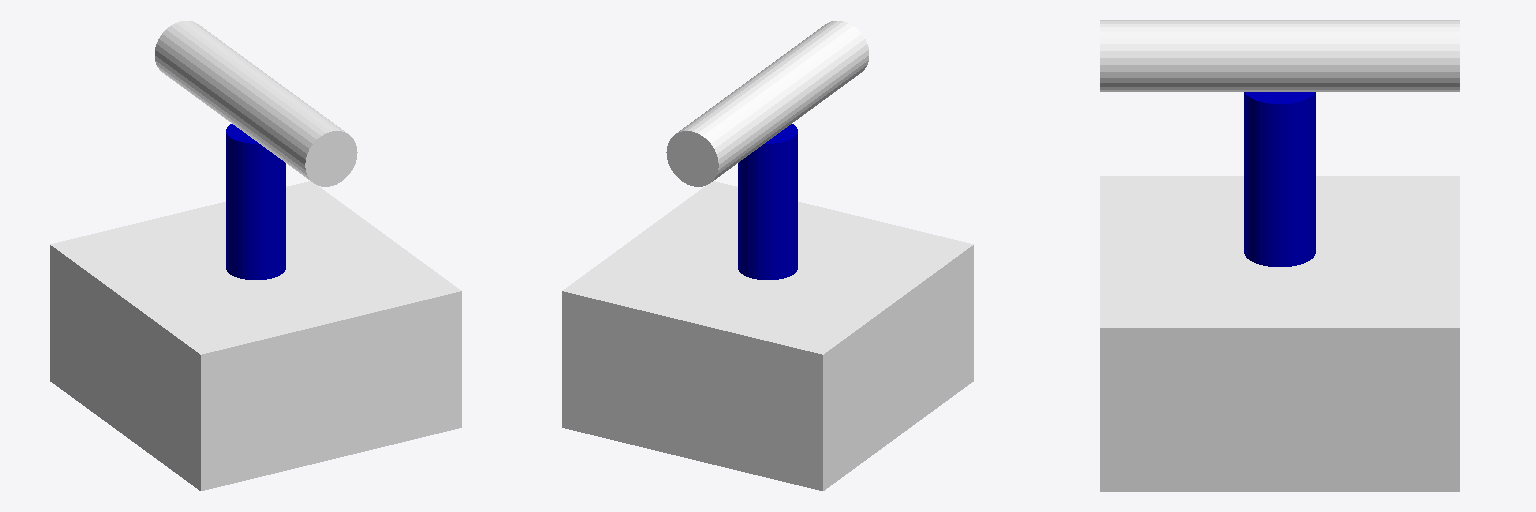
The robot description file, URDF, robot "simple_robot":
<?xml version="1.0"?>
<robot name="simple_robot">
	
	<material name="blue">
    <color rgba="0 0 0.8 1"/>
  </material>

  <material name="white">
    <color rgba="1 1 1 1"/>
  </material>
	
  <link name="base_link">
    <visual>
      <geometry>
		<box size="0.1 0.1 0.05"/>
      </geometry>
      <material name="white"/>
      <origin xyz="0 0 0.025"/>
    </visual>
  </link>

  <link name="plato_giro">
    <visual>
      <geometry>
        <cylinder length="0.05" radius="0.01"/>
      </geometry>
      <material name="blue"/>
      <origin rpy="0 0 0" xyz="0 0 0"/>
    </visual>
  </link>

  <joint name="J1" type="continuous">
    <parent link="base_link"/>
    <child link="plato_giro"/>
    <origin xyz="0 0 0.075"/>
     <axis xyz="0 0 0.1" />
  </joint>
  
 
  <link name="link2_1">
	  <visual>
		  <geometry>
			  <cylinder length="0.1" radius="0.01"/>
		  </geometry>
		  <material name="white"/>
		  <origin rpy="0 0 0" xyz="0 0 0"/>
	  </visual>
  </link>
  
  <joint name="J2" type="continuous">
	<parent link="plato_giro"/>
    <child link="link2_1"/>
    <origin rpy="1.570796 0 0" xyz="0 0 0.035"/>
    <axis xyz="0 0 1"/>
  </joint>


</robot>

--- Render facts (derived) ---
Views: 3 orthographic renders of the robot side by side, from view 1: azimuth 30°, elevation 25°; view 2: azimuth 150°, elevation 25°; view 3: azimuth 270°, elevation 25°.
Model simple_robot with 3 links and 2 joints (2 continuous), rooted at base_link, posed all joints at 0.
Links seen in each view (by area): view 1: base_link, link2_1, plato_giro; view 2: base_link, link2_1, plato_giro; view 3: base_link, link2_1, plato_giro.
Boxes of the visible links, left/top/right/bottom form: base_link: left=50, top=181, right=461, bottom=490; link2_1: left=155, top=21, right=357, bottom=186; plato_giro: left=226, top=124, right=285, bottom=279; base_link: left=562, top=181, right=973, bottom=490; link2_1: left=666, top=21, right=868, bottom=186; plato_giro: left=738, top=124, right=797, bottom=279; base_link: left=1100, top=176, right=1459, bottom=491; link2_1: left=1100, top=20, right=1459, bottom=91; plato_giro: left=1244, top=92, right=1315, bottom=266.
Size in the robot's own frame: 0.1 by 0.1 by 0.12 metres.
Geometry: primitives only (box / cylinder / sphere), no mesh files.